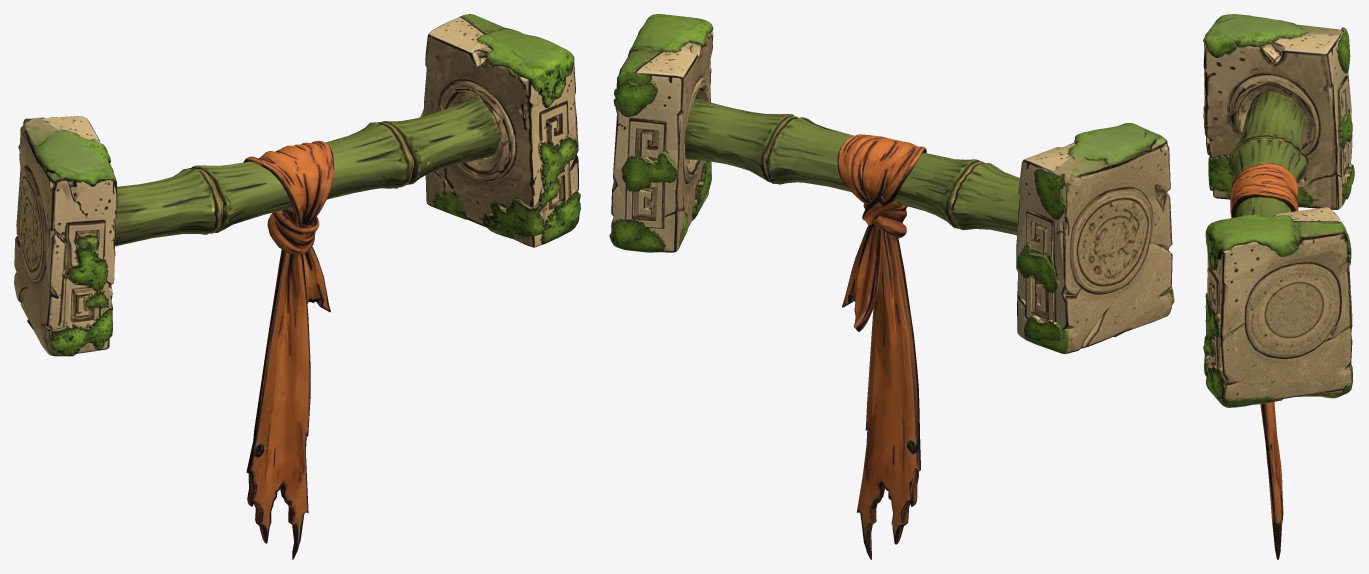
Rendered from SwingPole.fbx.
3 renders of one model, left to right at view 1: azimuth 30°, elevation 25°; view 2: azimuth 150°, elevation 25°; view 3: azimuth 270°, elevation 25°, orthographic. The views are drawn at different scales.
Parts seen in each view (by area): view 1: SwingPole; view 2: SwingPole; view 3: SwingPole.
Boxes of the visible parts, x1,y1,x2,y2 form: SwingPole: (14,14,580,559); SwingPole: (609,14,1174,559); SwingPole: (1203,14,1354,559).
Bounding box in the file's own units: 2 × 1.7 × 0.5398.
Materials: 1 (1 with a texture image).
